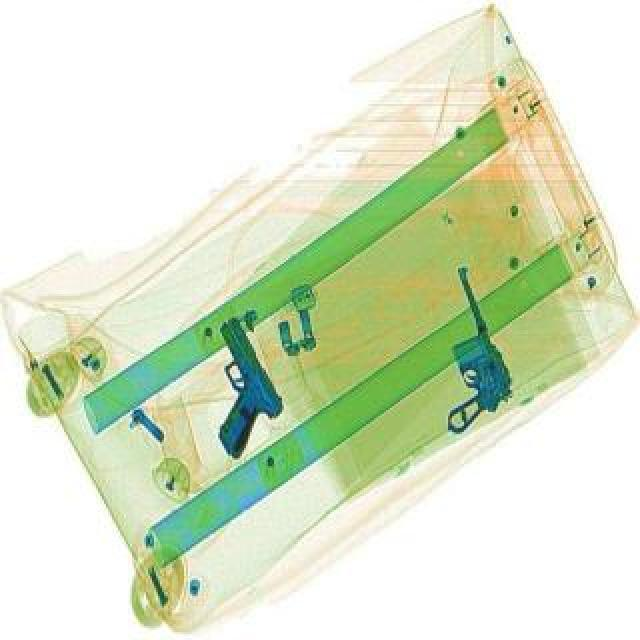gun: (394, 268, 526, 440), (166, 316, 296, 462)
